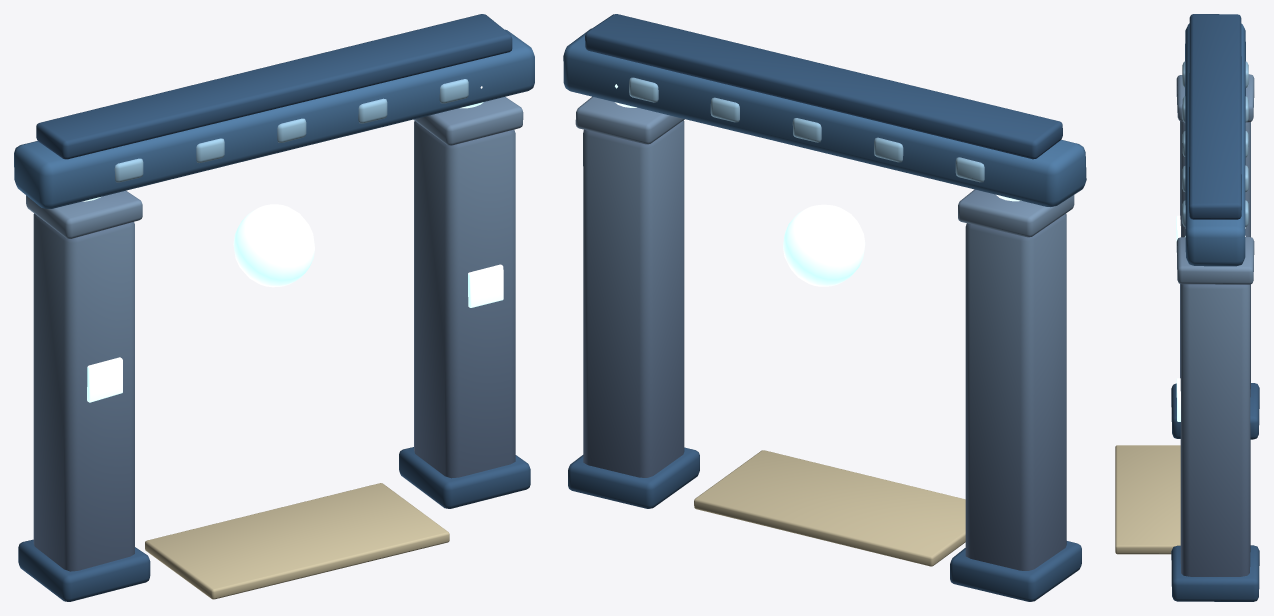
3 views of the same model, side by side, from view 1: azimuth 30°, elevation 25°; view 2: azimuth 150°, elevation 25°; view 3: azimuth 270°, elevation 25° (orthographic). The views are drawn at different scales.
Visible parts, largest first — view 1: gate_673b1e49; view 2: gate_673b1e49; view 3: gate_673b1e49.
Part boxes in pixels (box(x1,y1,x2,y2)): gate_673b1e49: box(14, 14, 534, 601); gate_673b1e49: box(563, 14, 1086, 601); gate_673b1e49: box(1115, 14, 1259, 601).
Bounding box in the file's own units: 4.99 × 4.36 × 1.44.
